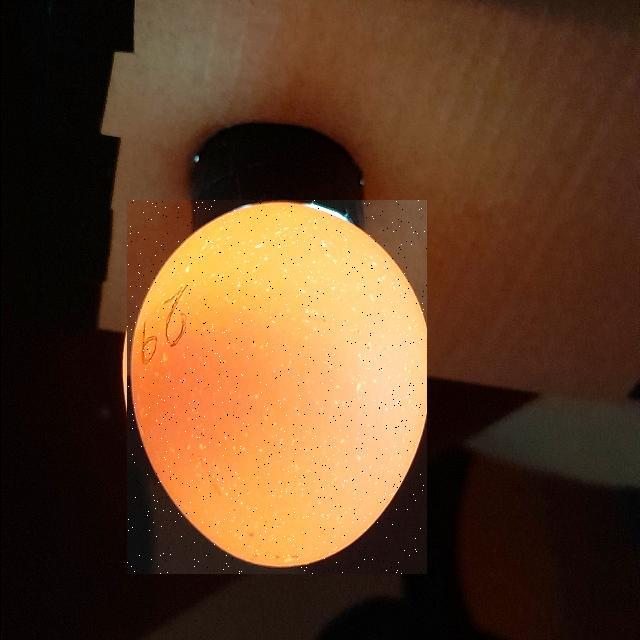Fertile: (127, 200, 427, 574)
